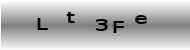3: (94, 18, 108, 31)
F: (112, 19, 126, 34)
L: (35, 16, 49, 31)
e: (134, 13, 148, 25)
t: (65, 11, 76, 24)
